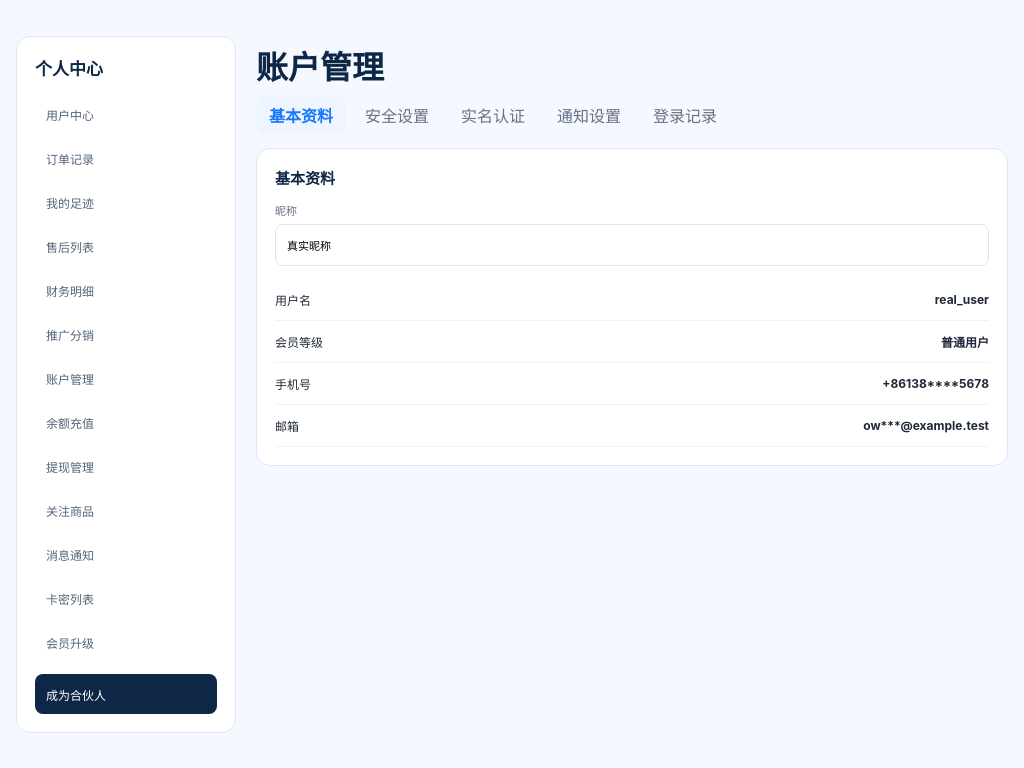
Scenario: 实名认证与通知设置在没有真实执行层时不伪造保存成功
Expected: the field showing "真实昵称" is shown, [275,224,989,266]
Click the button "实名认证".
click(493, 115)  # box [448,96,538,134]
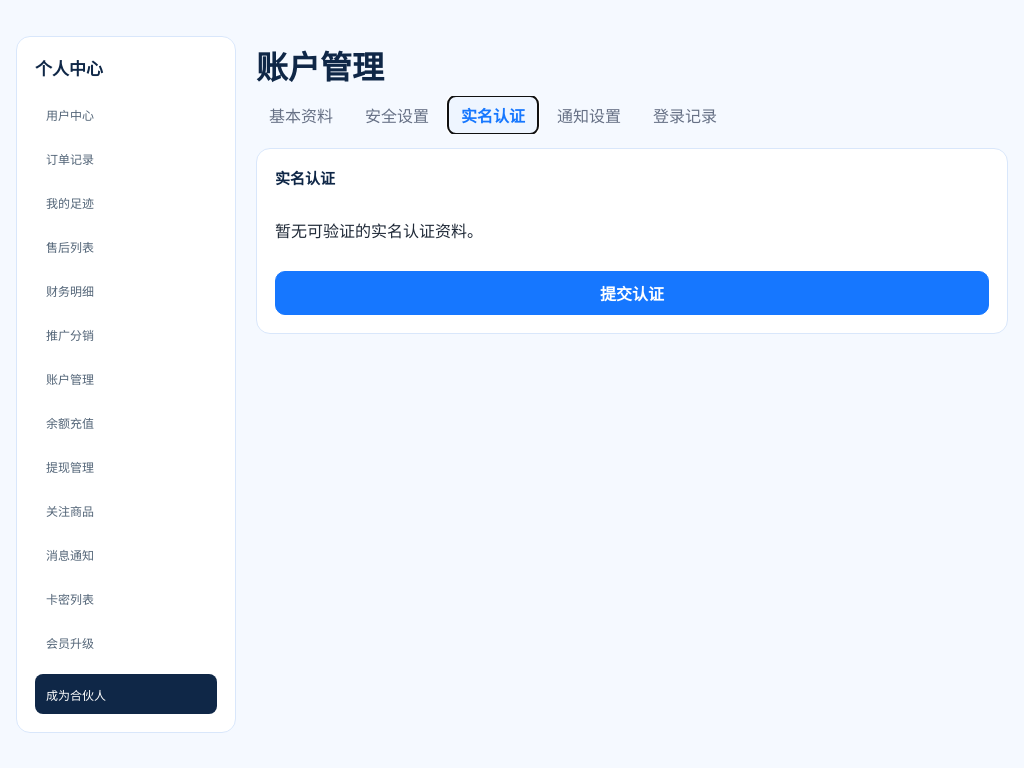
Expected: the button "提交认证" is disabled, [275,271,989,315]
Click the button "通知设置".
click(589, 115)  # box [544,96,634,134]
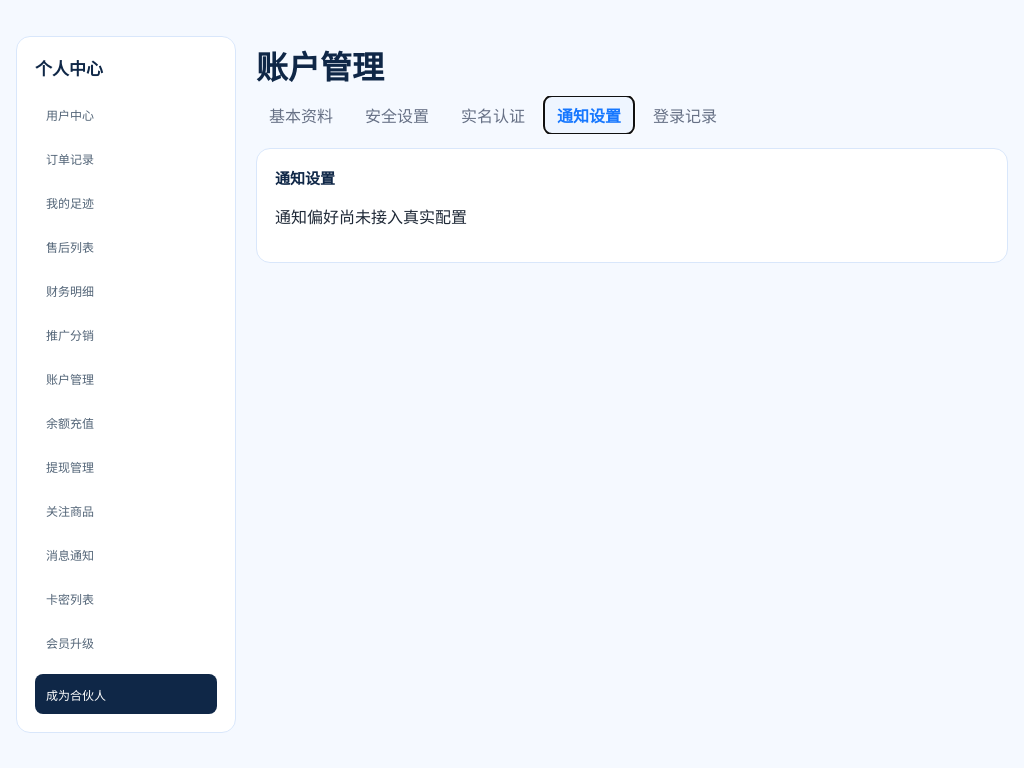
Expected: the text "通知偏好尚未接入真实配置" is shown, [275,207,467,227]
